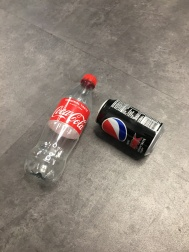bottle_red: (16, 53, 97, 200)
can_black: (93, 89, 168, 166)
